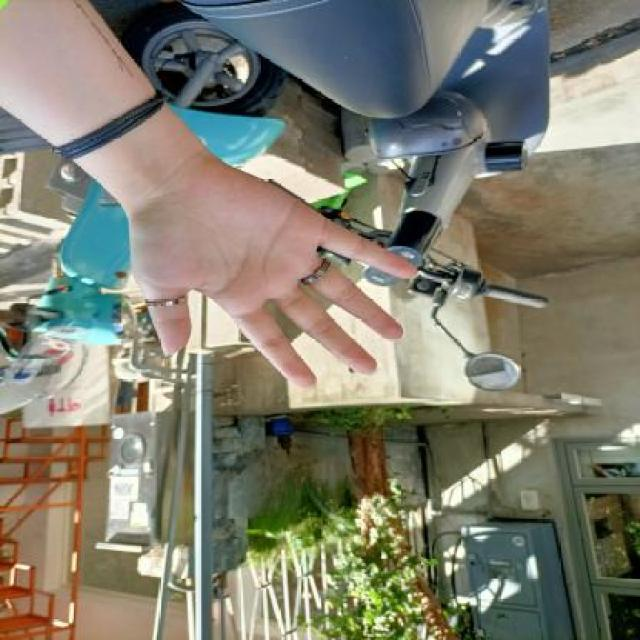bare_hand: (111, 144, 427, 406)
